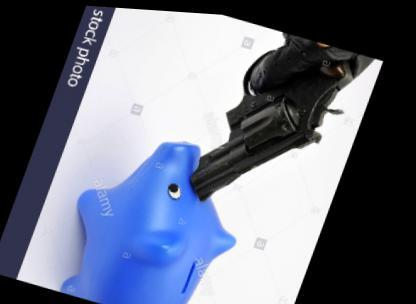pistol: (180, 15, 370, 230)
